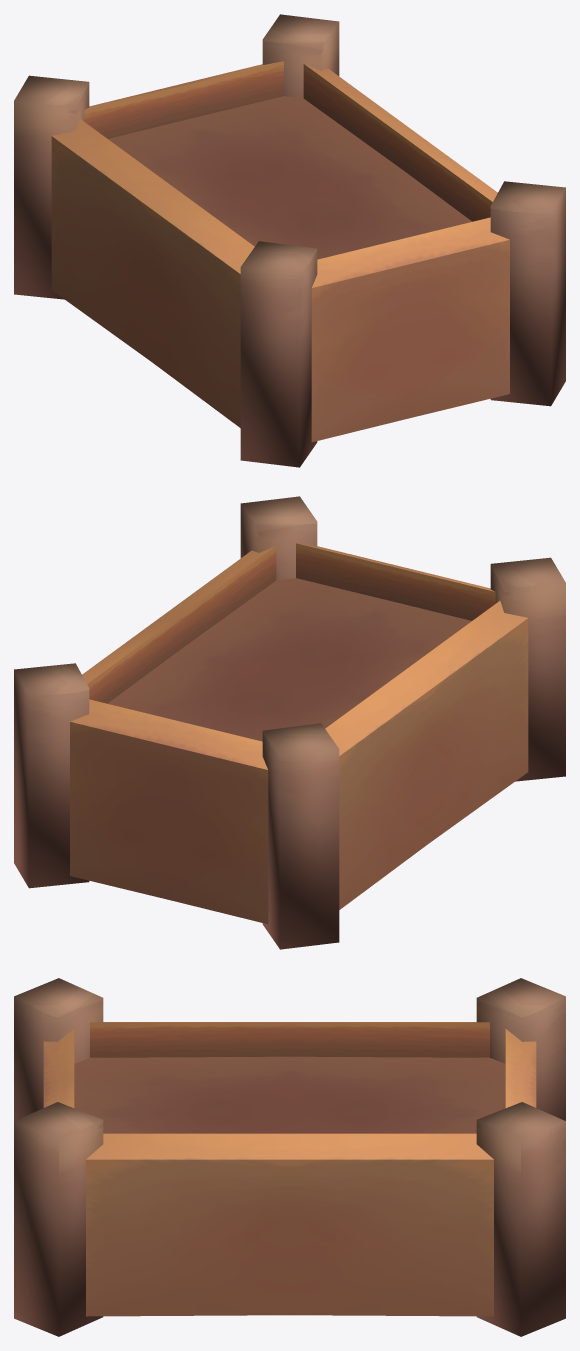
The model's file is pot_004.fbx.
The picture shows the model from 3 angles, top to bottom: view 1: azimuth 30°, elevation 25°; view 2: azimuth 150°, elevation 25°; view 3: azimuth 270°, elevation 25°; orthographic projection.
Visible parts, largest first — view 1: pot.004; view 2: pot.004; view 3: pot.004.
Part boxes in pixels (box(x1,y1,x2,y2)): pot.004: box(14, 14, 565, 467); pot.004: box(14, 496, 565, 949); pot.004: box(14, 978, 565, 1336).
Size of the model in its own units: 66.7 by 37.95 by 96.24.
